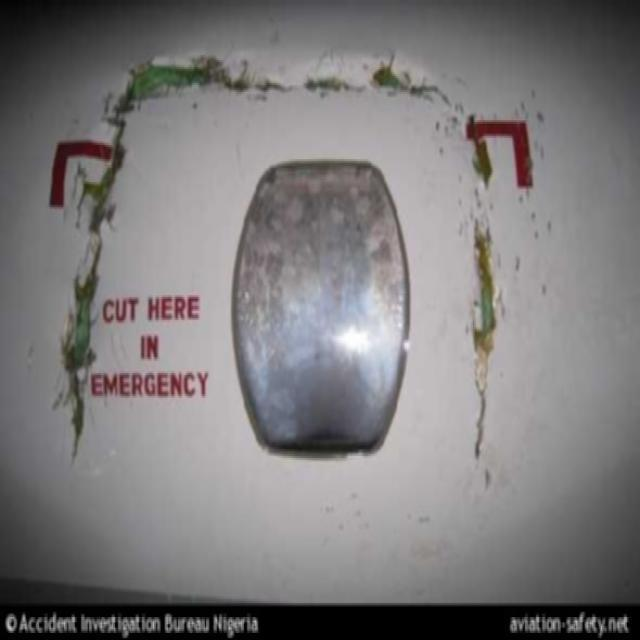crack: (53, 115, 130, 465), (116, 57, 456, 104), (471, 219, 498, 469)
